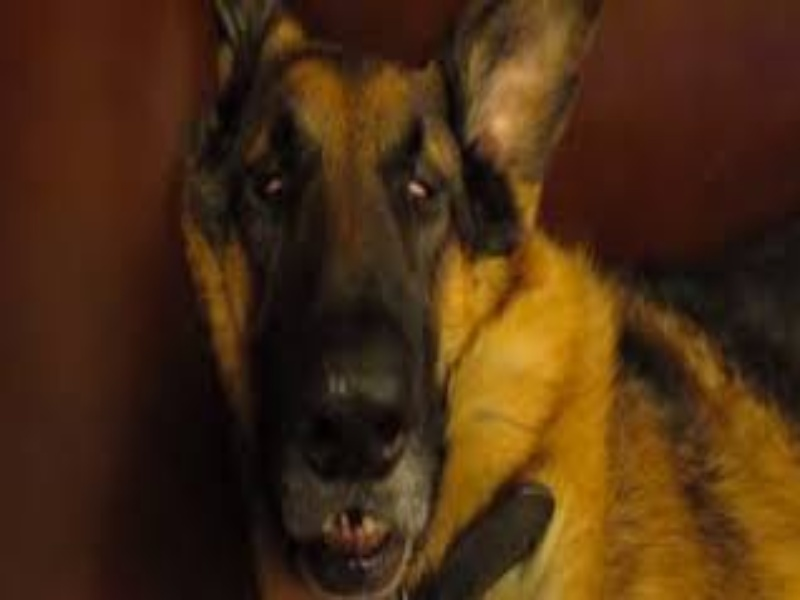dog: (167, 32, 761, 585)
